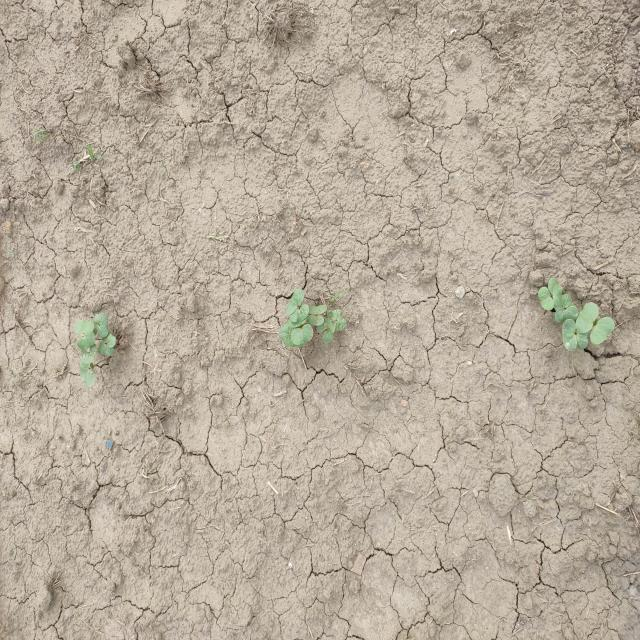seedling_s2: (576, 302, 599, 333), (590, 317, 614, 345), (79, 354, 96, 388), (286, 288, 304, 315), (562, 319, 577, 351), (548, 278, 564, 307), (291, 324, 313, 345), (77, 330, 95, 354), (555, 306, 579, 324), (538, 287, 554, 310), (290, 304, 309, 323), (554, 293, 572, 311), (322, 322, 336, 344), (74, 320, 94, 335), (279, 328, 294, 347), (98, 313, 109, 338), (289, 315, 309, 328), (85, 344, 97, 364), (577, 330, 589, 350), (93, 313, 103, 336), (317, 318, 332, 333), (102, 332, 116, 348), (98, 343, 114, 356), (307, 315, 324, 326), (309, 305, 327, 315), (327, 310, 342, 322), (335, 318, 346, 332), (284, 323, 294, 335)
